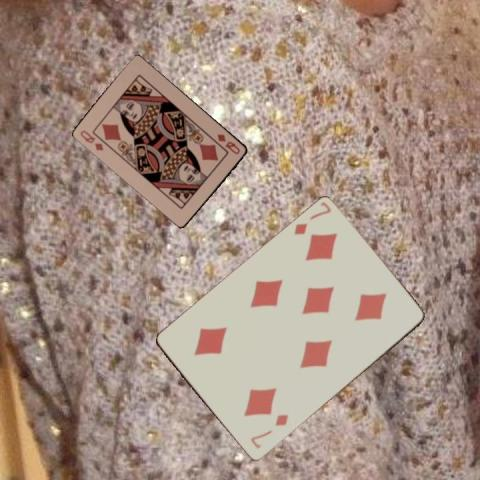7d: (247, 411, 290, 451), (290, 200, 332, 237)
Qd: (77, 127, 106, 152), (215, 131, 242, 156)
